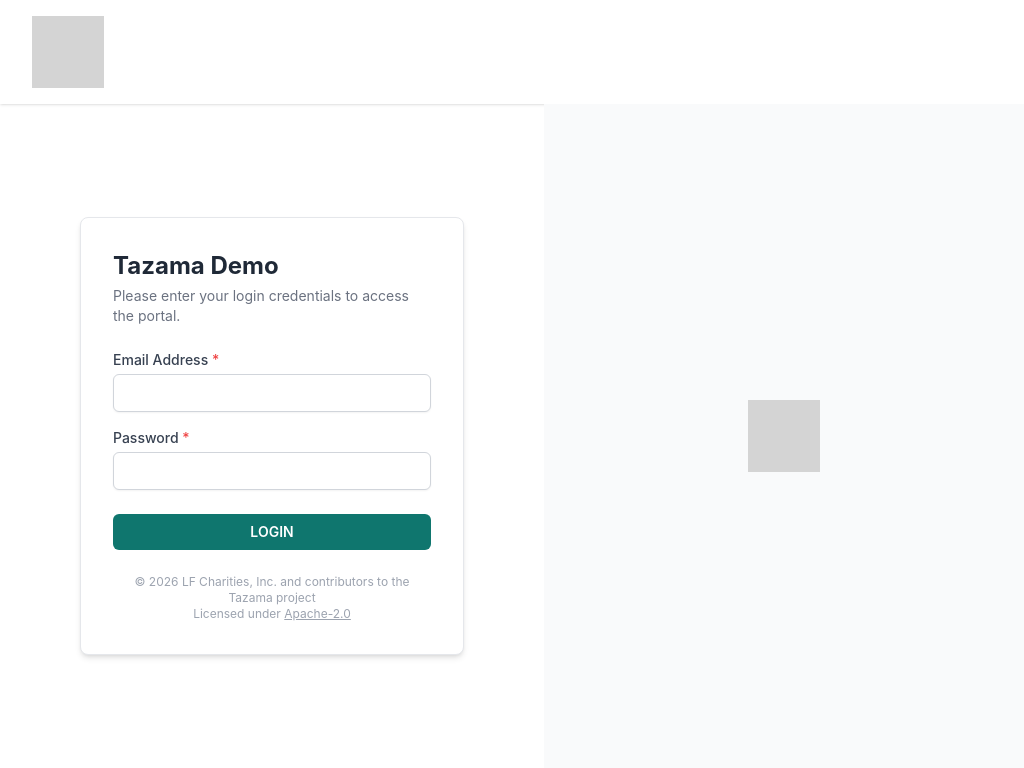
Test: LoginPage - what we do with the signIn() result › shows a generic error and does not navigate when signIn() throws
In the field labelled "Email Address *": {"x": 272, "y": 393} [113,374,431,412], type "u@example.com"
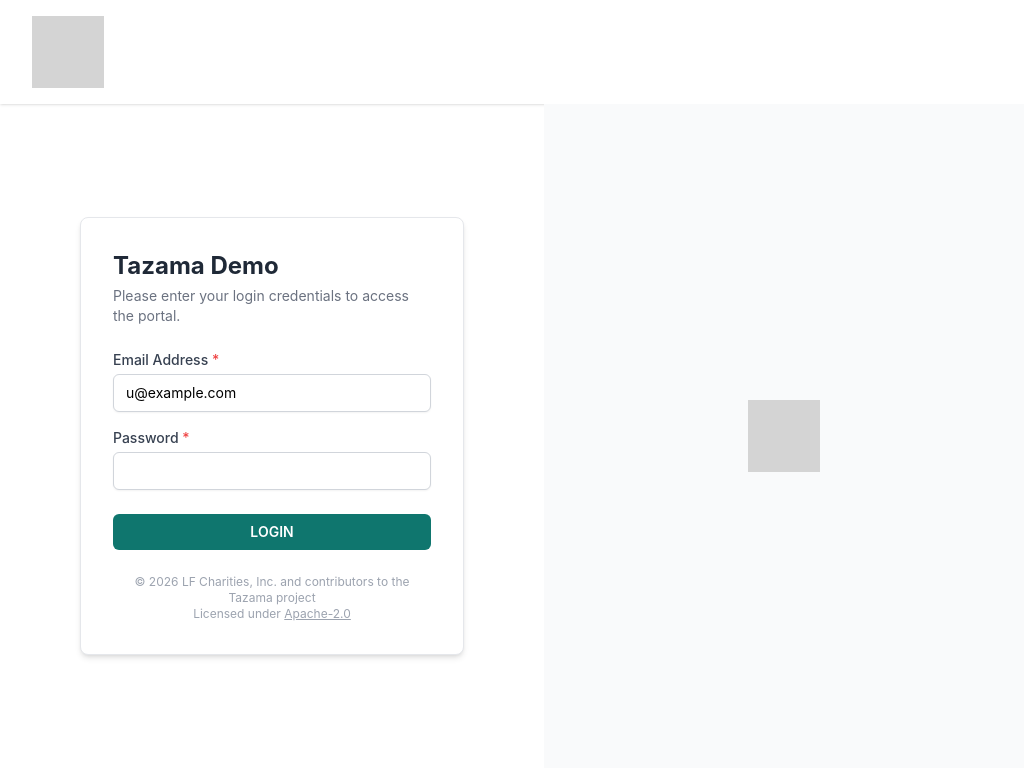
In the password field labelled "Password *": {"x": 272, "y": 471} [113,452,431,490], type "pw"
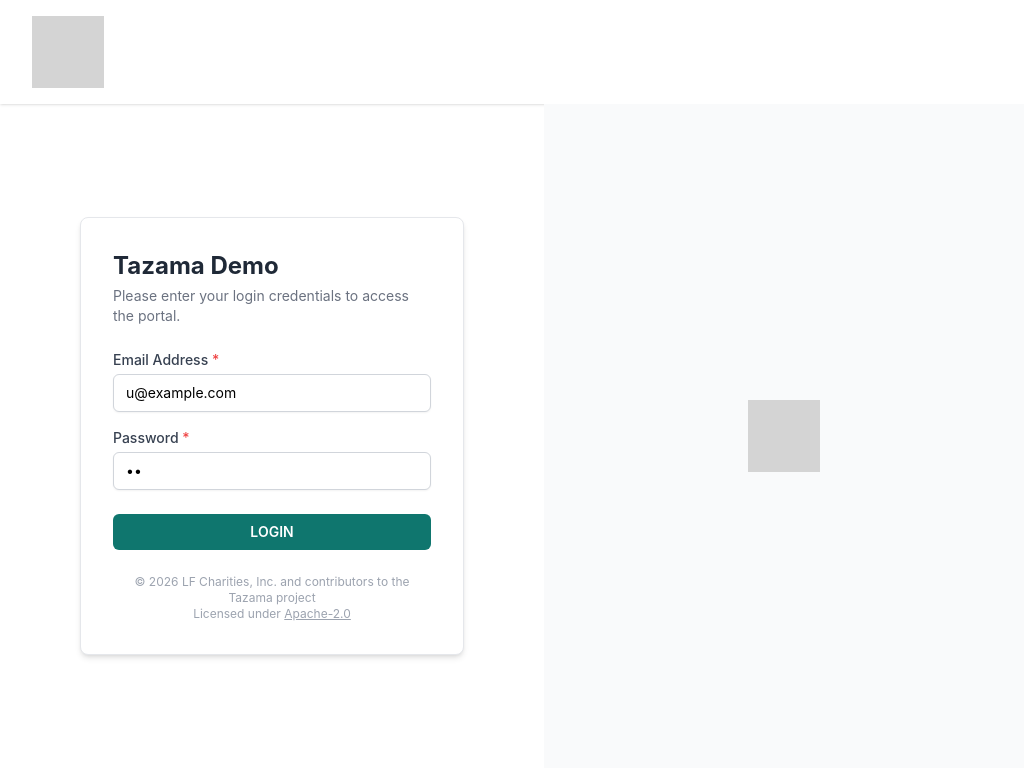
Click the button "LOGIN": {"x": 272, "y": 532} [113,514,431,550]
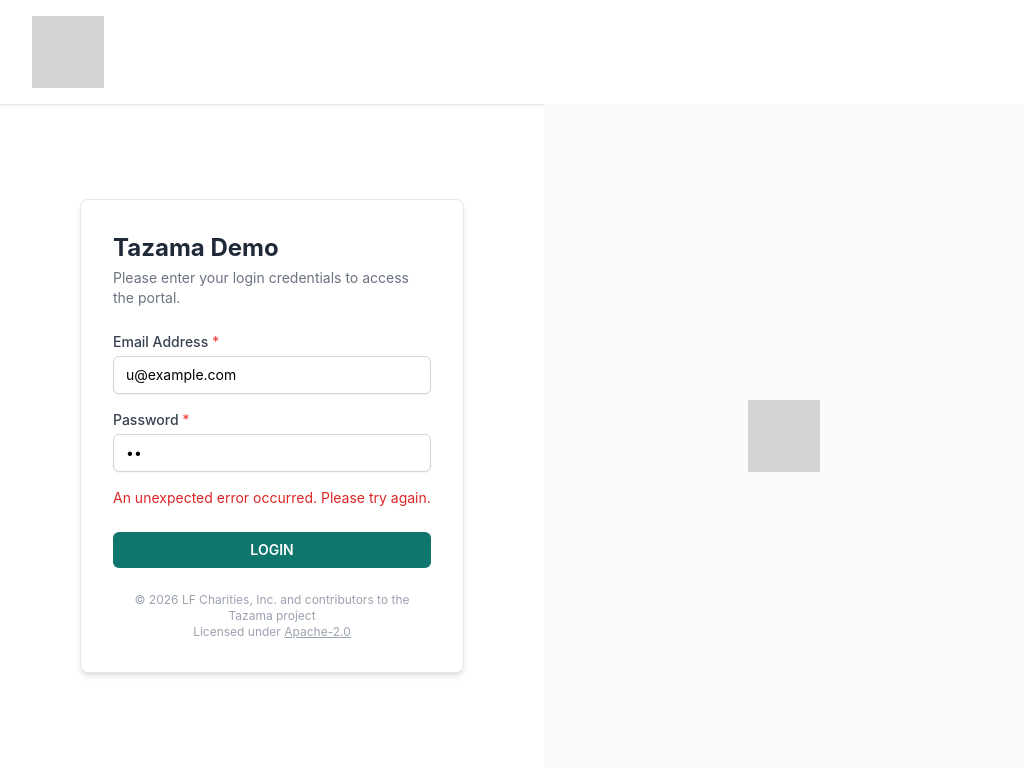
Check: the message shows "unexpected error", box [113,489,431,506]
